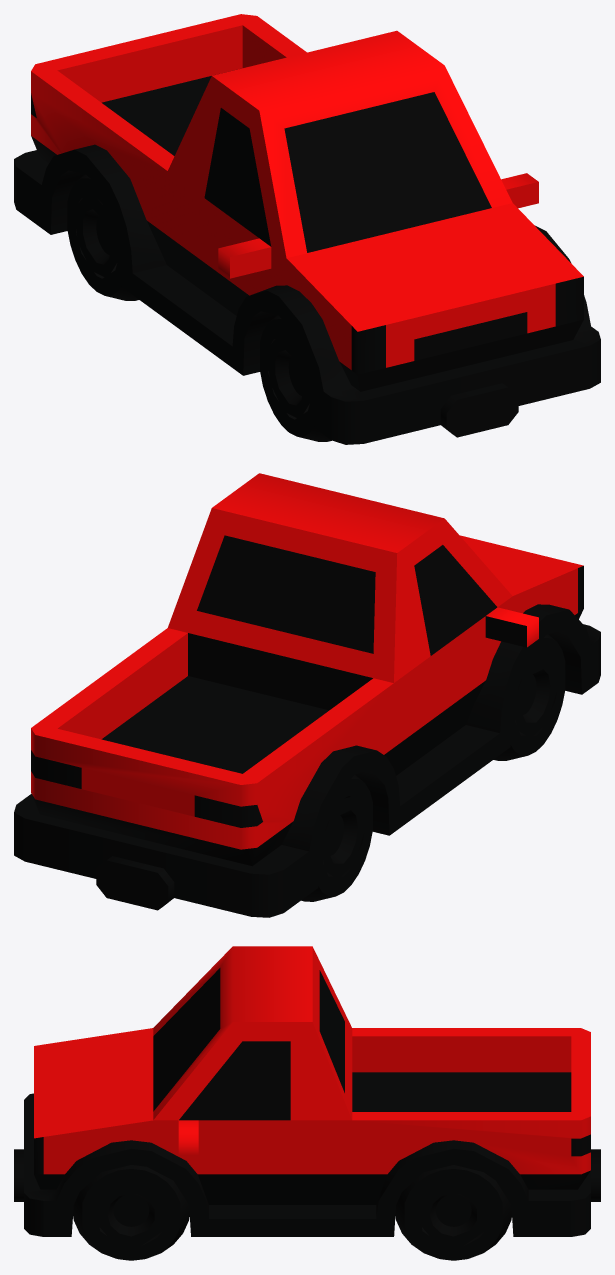
File: truck.glb
The picture shows the model from 3 angles, top to bottom: view 1: azimuth 30°, elevation 25°; view 2: azimuth 150°, elevation 25°; view 3: azimuth 270°, elevation 25°; orthographic projection. The views are drawn at different scales.
Parts seen in each view (by area): view 1: body, wheel-back-right, wheel-front-right; view 2: body, wheel-front-right, wheel-back-right; view 3: body, wheel-front-left, wheel-back-left.
Part boxes in pixels (<box>): body: <box>14,14,600,444</box>; wheel-back-right: <box>67,174,138,300</box>; wheel-front-right: <box>260,315,331,441</box>; body: <box>14,473,600,917</box>; wheel-front-right: <box>493,634,565,760</box>; wheel-back-right: <box>301,775,372,901</box>; body: <box>14,946,600,1236</box>; wheel-front-left: <box>73,1165,189,1260</box>; wheel-back-left: <box>395,1165,511,1260</box>.
Bounding box in the file's own units: 1.5 × 1.3 × 2.95.
1 material, 1 textured.
